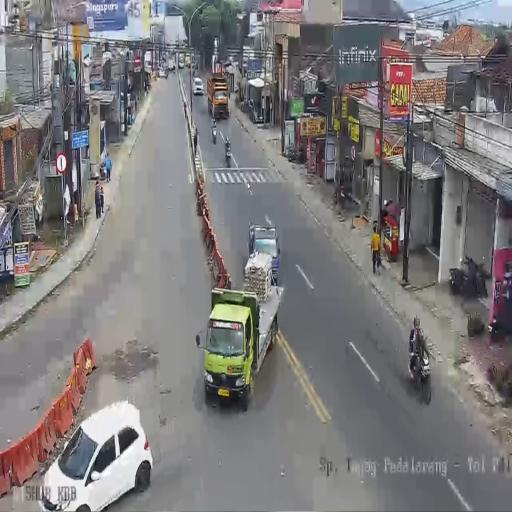3: (199, 272, 281, 406), (207, 74, 229, 121), (144, 50, 152, 74), (178, 53, 185, 69)
car: (37, 401, 153, 510), (247, 220, 281, 285), (192, 77, 204, 95), (169, 57, 175, 71), (185, 53, 190, 68)
truck: (408, 338, 432, 405), (334, 179, 360, 211), (286, 144, 305, 166), (164, 67, 168, 79)
